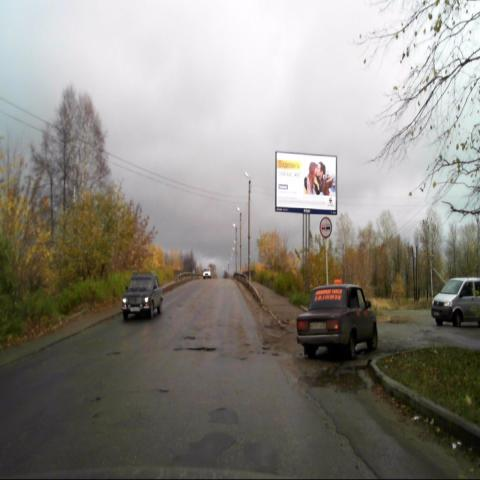3_20: (318, 215, 332, 240)
